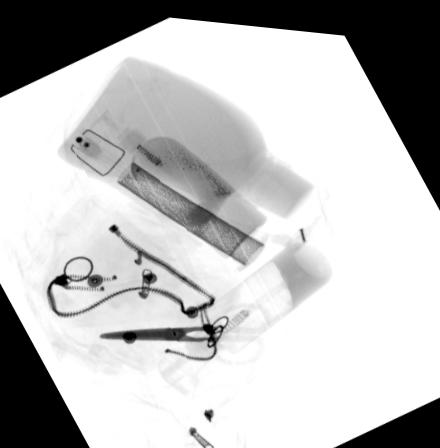Scissors: (96, 301, 264, 352)
